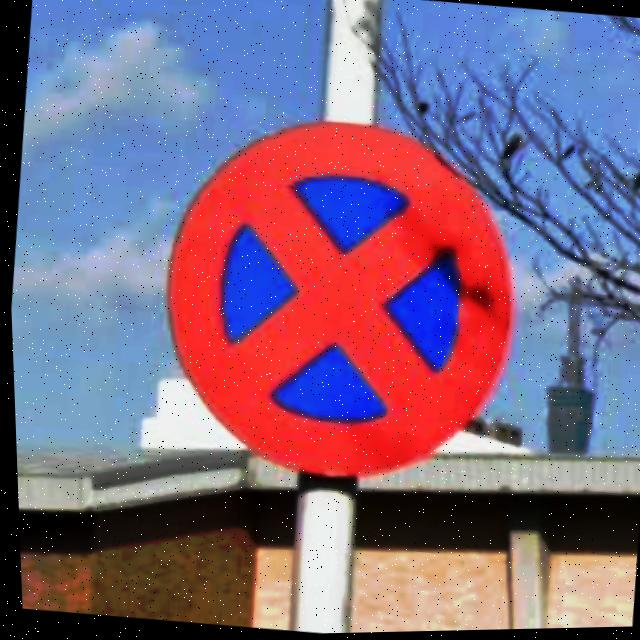nostop: (136, 96, 537, 504)
